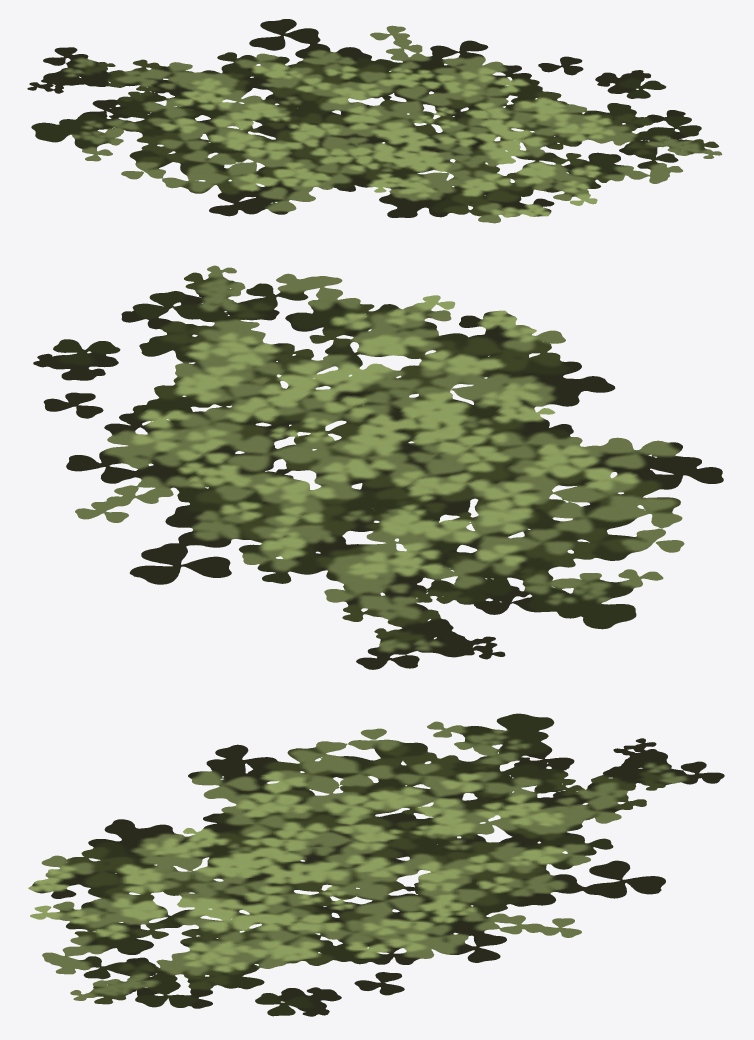
Rendered from HP3_clovers.fbx.
The picture shows the model from 3 angles, top to bottom: view 1: azimuth 30°, elevation 25°; view 2: azimuth 150°, elevation 25°; view 3: azimuth 270°, elevation 25°; orthographic projection. The views are drawn at different scales.
Visible parts, largest first — view 1: HP3_clovers; view 2: HP3_clovers; view 3: HP3_clovers.
Boxes of the visible parts, <box> form: HP3_clovers: <box>27,19,722,223</box>; HP3_clovers: <box>33,265,723,669</box>; HP3_clovers: <box>28,713,724,1016</box>.
Size of the model in its own units: 10.22 by 4.28e-07 by 9.78.
